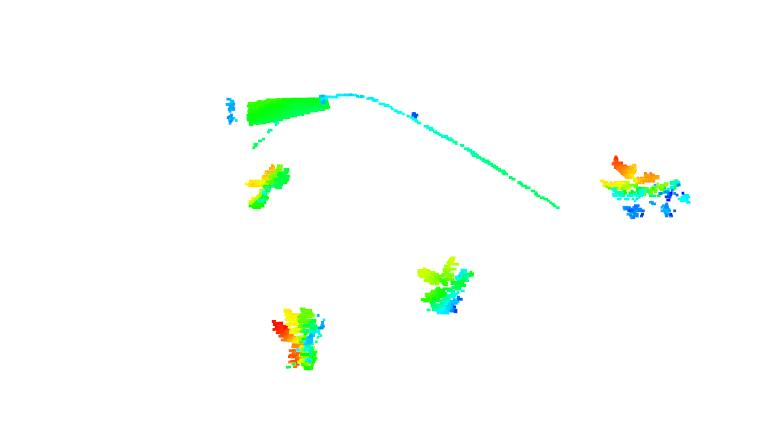chickpea: (601, 153, 693, 216), (270, 303, 325, 371), (415, 256, 476, 316), (243, 161, 292, 211)
